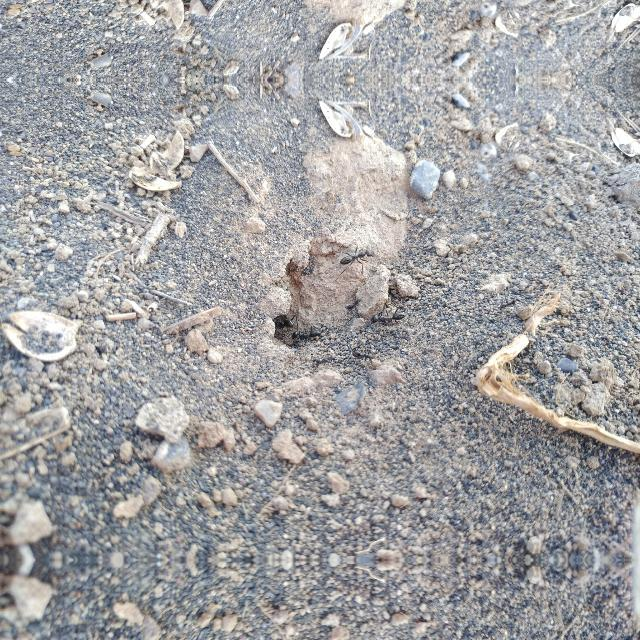Cataglyphis: (337, 245, 377, 268), (369, 307, 409, 327), (290, 323, 326, 345), (347, 344, 378, 366), (274, 306, 296, 334), (342, 292, 364, 316)
